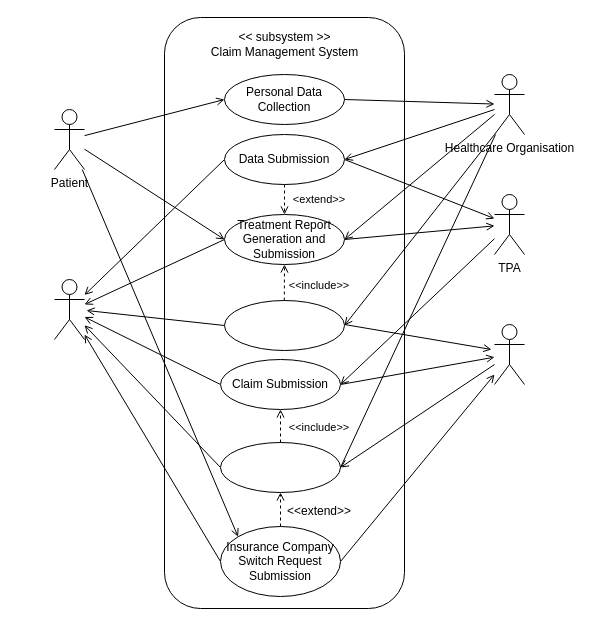
Some shapes in this 591 by 626 pixel diagram are drawn without their labels. The shapes that lost their labels are listed below. From the top down, each one's centre as x and y in pixels, then its label:
pixel 69 309: <<system>> Blockchain Network
pixel 284 325: ML Model Training and Use
pixel 509 354: Insurance Company
pixel 280 467: Verification and Approval
